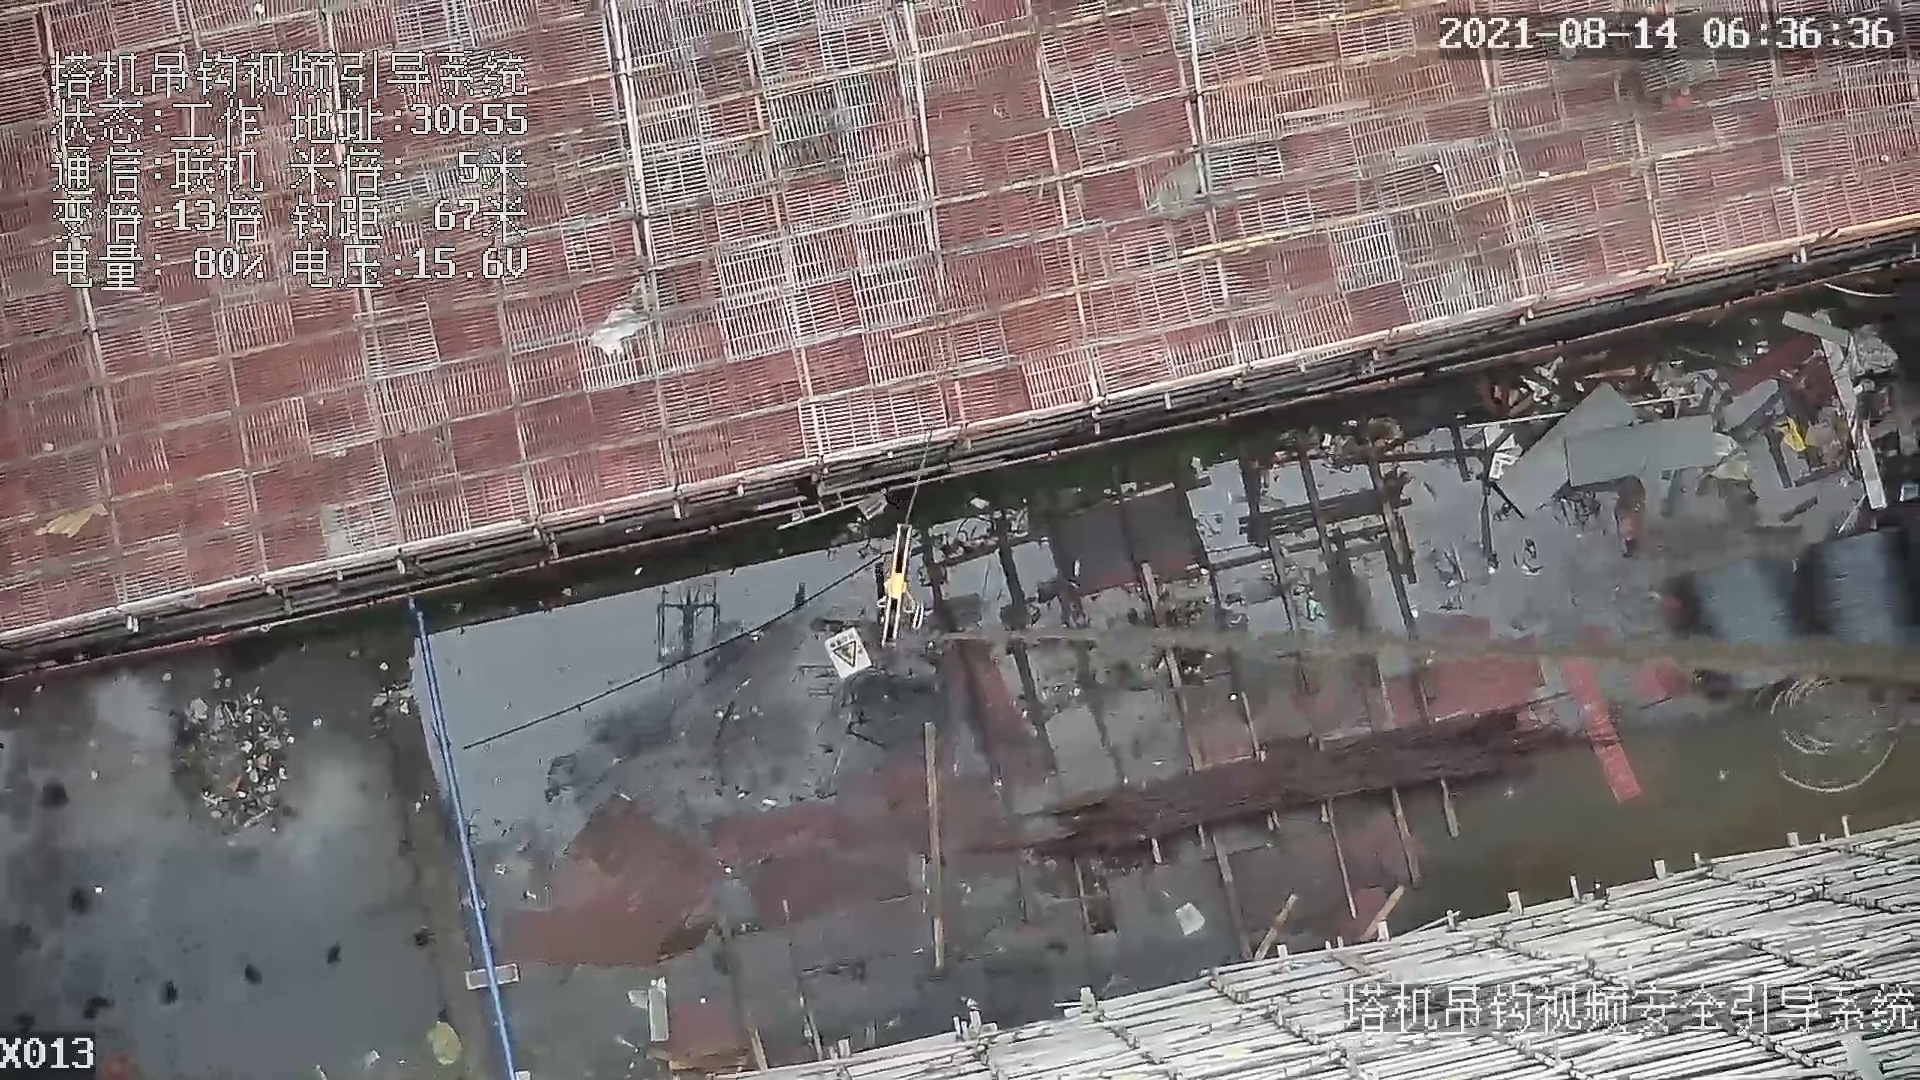hook: (881, 518, 922, 636)
